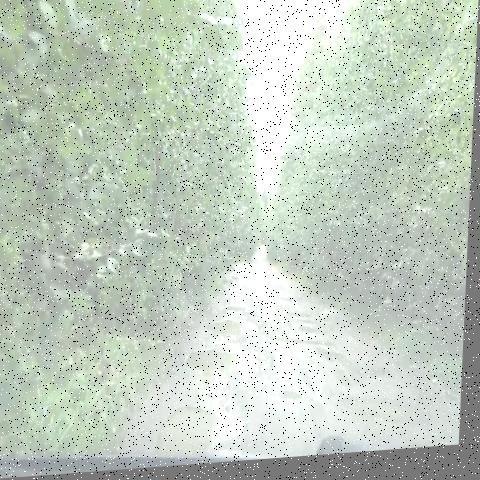pothole: (149, 381, 258, 468), (181, 341, 270, 396), (337, 391, 429, 444), (208, 307, 265, 349), (277, 377, 316, 420), (313, 344, 354, 379), (271, 327, 311, 361), (298, 321, 333, 347), (270, 288, 304, 313), (291, 300, 321, 328), (221, 301, 260, 322), (231, 269, 250, 297), (237, 280, 254, 305)
